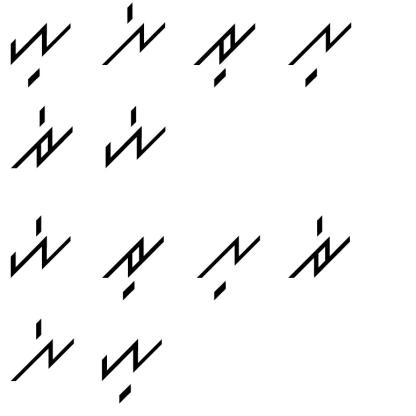le: (97, 0, 168, 71), (7, 317, 80, 383)
lu: (189, 227, 265, 306), (282, 10, 356, 91)
re: (284, 212, 356, 291), (6, 100, 76, 178)
ru: (90, 229, 170, 302), (190, 17, 260, 88)
ye: (4, 211, 76, 286), (98, 105, 173, 174)
yu: (7, 12, 73, 90)
